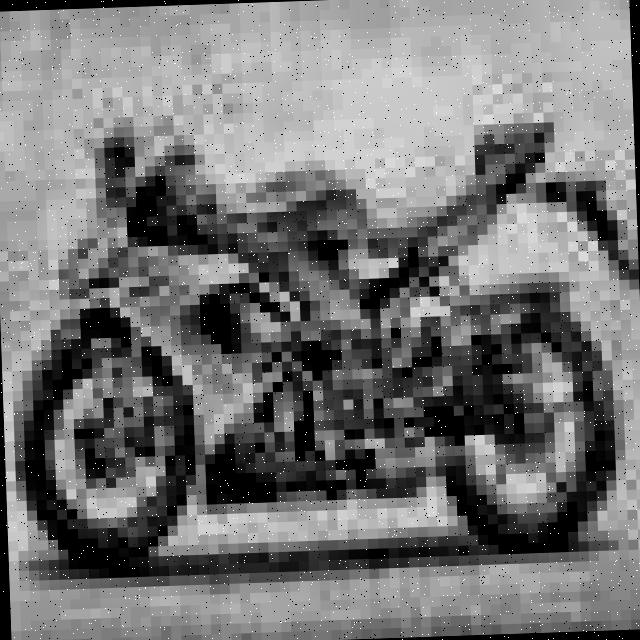mopeds: (10, 106, 640, 579)
